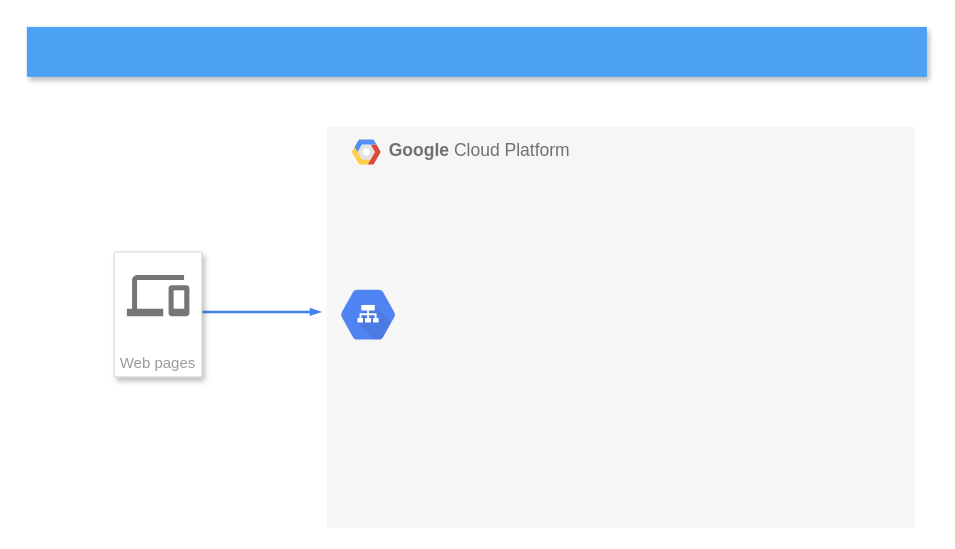
This 955x549 diagram has some shape labels left out. Here are the shapes that lost their labels. From the top down, the centre of each, then its label:
(x=477, y=53): Architecture: Websites > Content Hosting
(x=367, y=314): Http Load balancer
